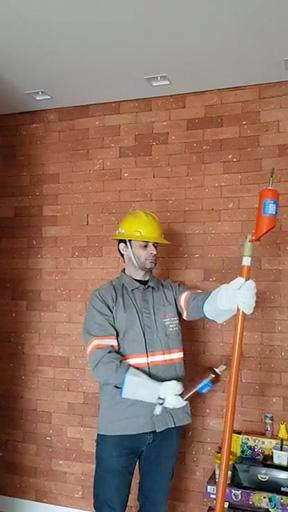Detector_Tensao_Contato: (253, 168, 280, 243)
Vara_Manobra: (216, 238, 257, 511)
